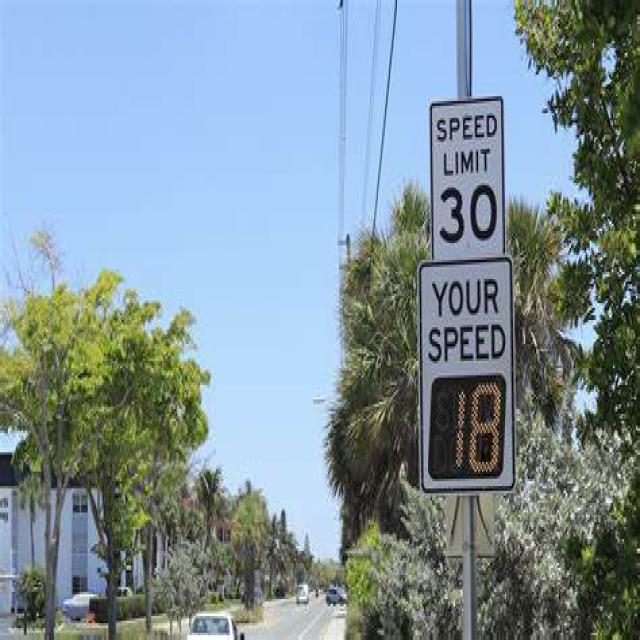speedLimit30: (427, 99, 505, 258)
